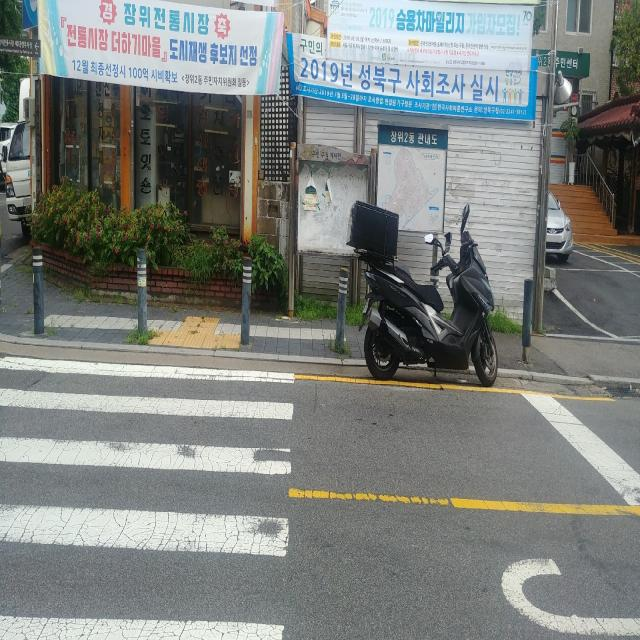횡단보도: (0, 354, 296, 639)
